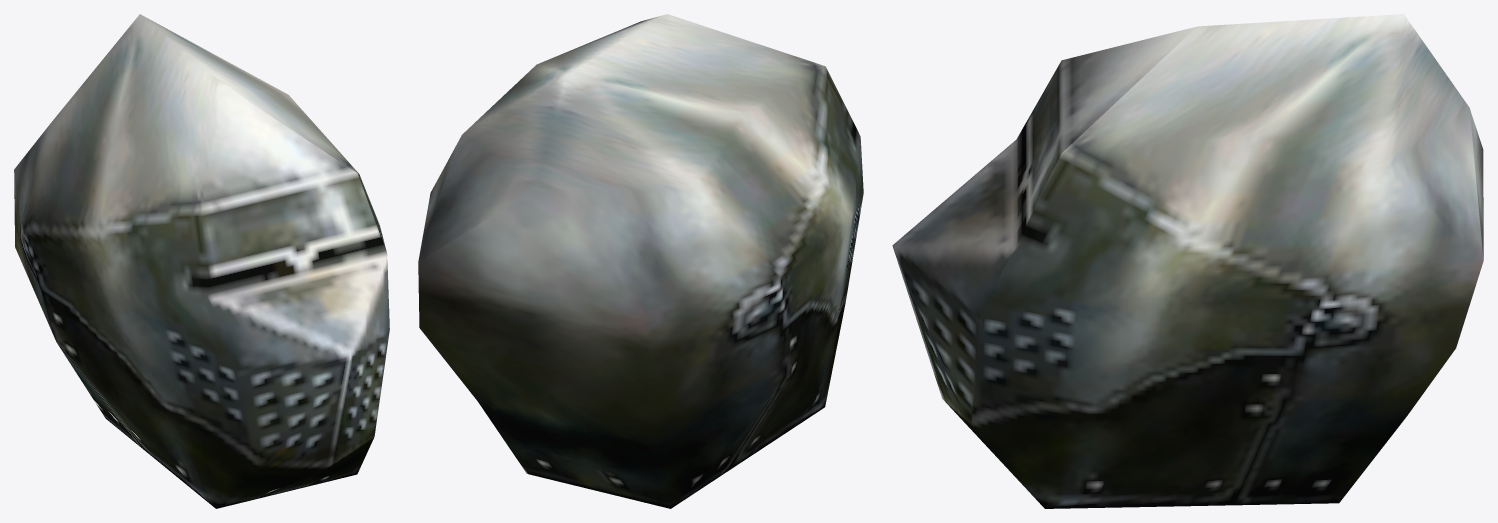
Rendered from st_shlem.glb.
The picture shows the model from 3 angles, left to right: view 1: azimuth 30°, elevation 25°; view 2: azimuth 150°, elevation 25°; view 3: azimuth 270°, elevation 25°; orthographic projection. The views are drawn at different scales.
Visible parts, largest first — view 1: st_shlem-col; view 2: st_shlem-col; view 3: st_shlem-col.
Part boxes in pixels (left/top/right/bottom): st_shlem-col: left=14, top=14, right=389, bottom=508; st_shlem-col: left=418, top=14, right=863, bottom=508; st_shlem-col: left=892, top=14, right=1483, bottom=508.
Size of the model in its own units: 0.2815 by 0.3391 by 0.4011.
Materials: 1 (1 with a texture image).
